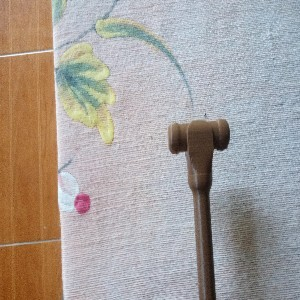palu: (167, 117, 231, 300)
